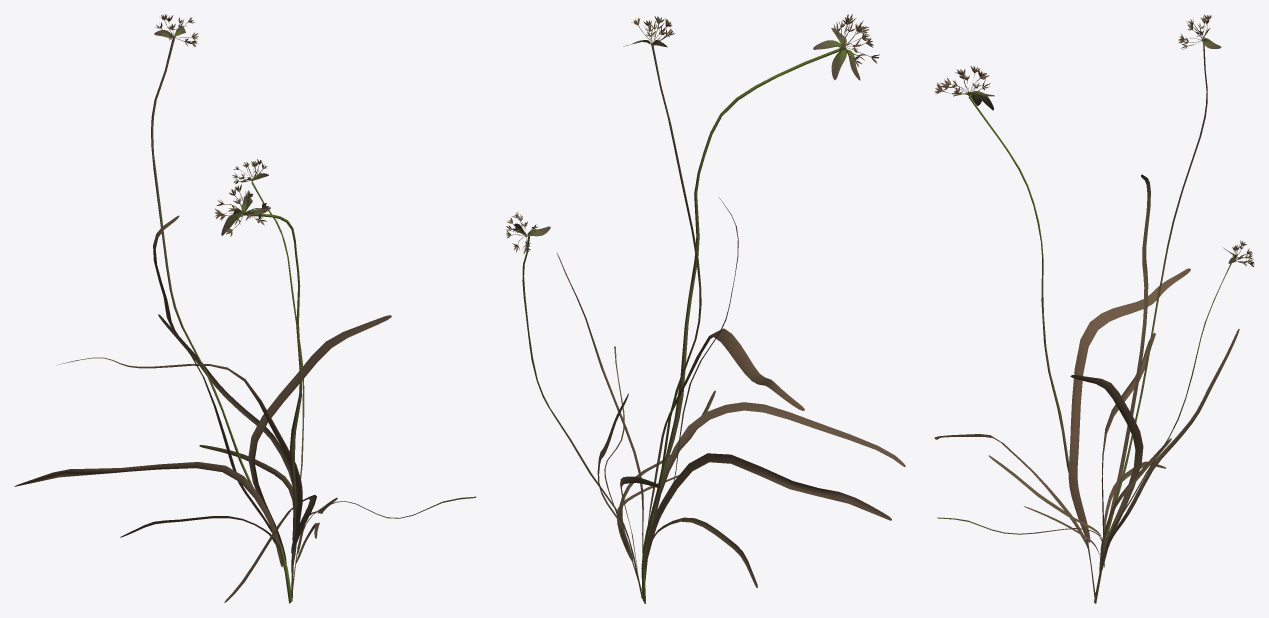
File: Herb_Burdock.glb
The picture shows the model from 3 angles, left to right: view 1: azimuth 30°, elevation 25°; view 2: azimuth 150°, elevation 25°; view 3: azimuth 270°, elevation 25°; orthographic projection. The views are drawn at different scales.
Visible parts, largest first — view 1: Herb_Burdock; view 2: Herb_Burdock; view 3: Herb_Burdock.
Part boxes in pixels (box(x1,y1,x2,y2)): Herb_Burdock: box(14, 14, 476, 603); Herb_Burdock: box(505, 14, 905, 603); Herb_Burdock: box(934, 15, 1254, 603).
Size of the model in its own units: 0.5219 by 0.8 by 0.4174.
Materials: 3 (3 with a texture image).
